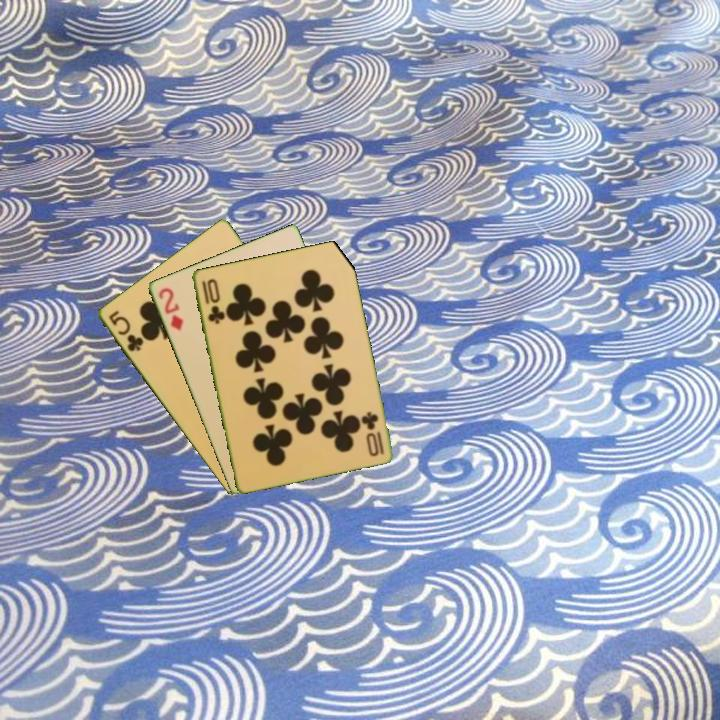10c: (198, 275, 226, 327), (358, 408, 386, 458)
2d: (154, 284, 186, 333)
5c: (105, 307, 146, 354)
